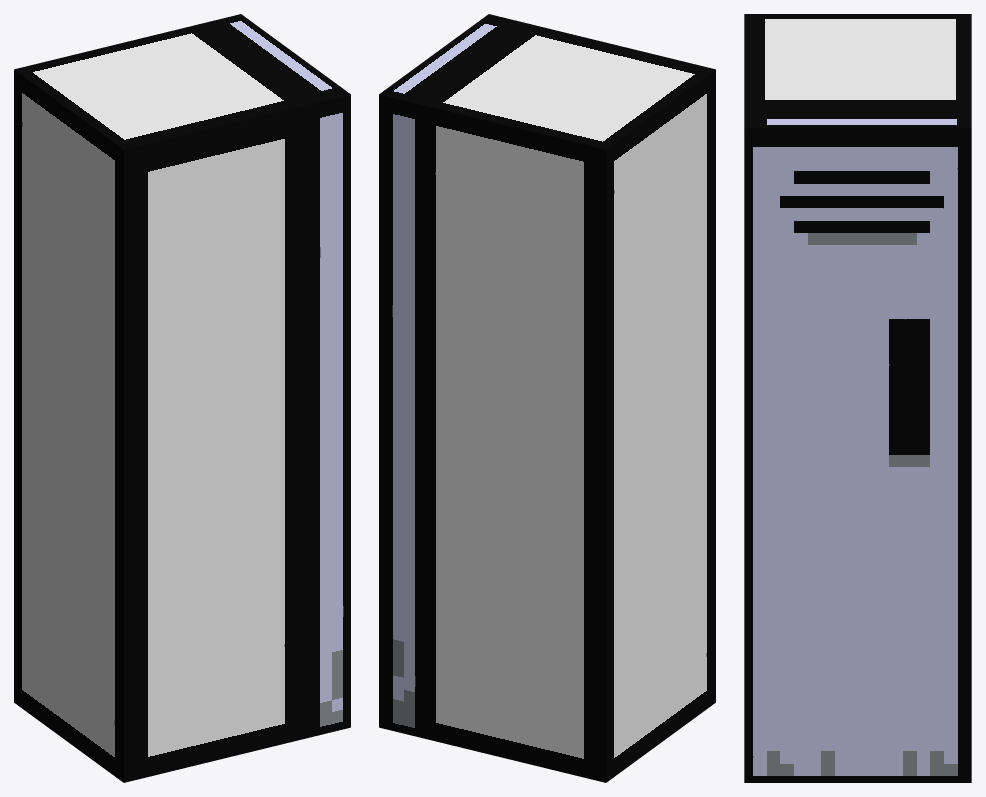
Rendered from rack.glb.
3 renders of one model, left to right at view 1: azimuth 30°, elevation 25°; view 2: azimuth 150°, elevation 25°; view 3: azimuth 270°, elevation 25°, orthographic. The views are drawn at different scales.
Parts seen in each view (by area): view 1: rack, rack_door; view 2: rack, rack_door; view 3: rack_door, rack.
Boxes of the visible parts, bbox=[...] form: rack: bbox=[14, 23, 313, 782]; rack_door: bbox=[205, 14, 350, 736]; rack: bbox=[416, 23, 715, 782]; rack_door: bbox=[379, 14, 524, 736]; rack_door: bbox=[744, 108, 971, 782]; rack: bbox=[744, 14, 971, 109].
Bounding box in the file's own units: 1.43 × 3.8 × 1.2.
Materials: 1 (1 with a texture image).
